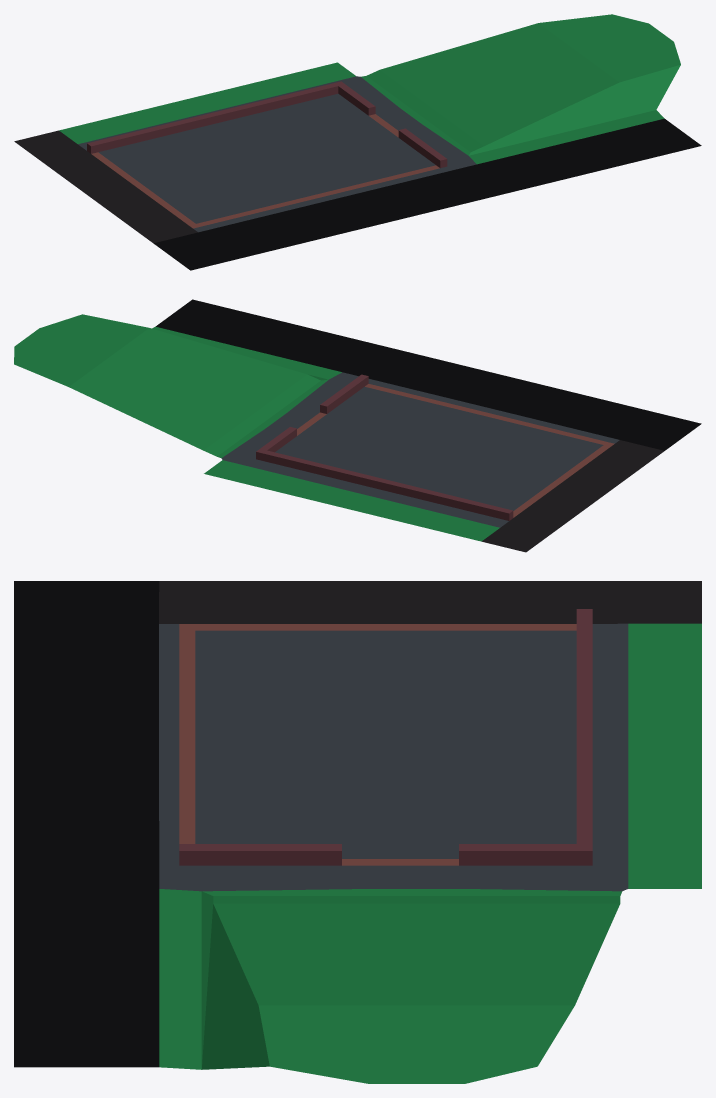
The model's file is FirstLevel.fbx.
3 views of the same model, one above another, from view 1: azimuth 30°, elevation 25°; view 2: azimuth 150°, elevation 25°; view 3: azimuth 270°, elevation 25° (orthographic). The views are drawn at different scales.
Visible parts, largest first — view 1: Plane; view 2: Plane; view 3: Plane.
Boxes of the visible parts, left/top/right/bottom form: Plane: left=14, top=14, right=701, bottom=270; Plane: left=14, top=299, right=701, bottom=552; Plane: left=14, top=581, right=701, bottom=1083.
Size of the model in its own units: 4222 by 7928 by 293.
